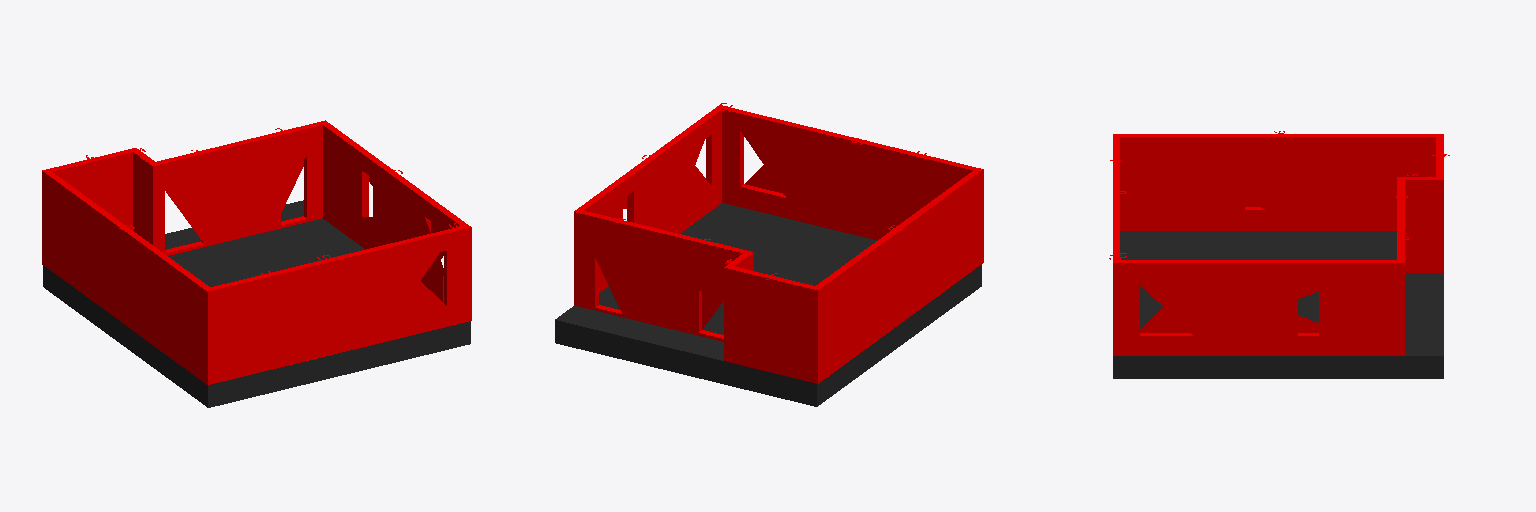
Rendered from 1_objects_outline_with_openings.obj.
The picture shows the model from 3 angles: view 1: azimuth 30°, elevation 25°; view 2: azimuth 150°, elevation 25°; view 3: azimuth 270°, elevation 25°; orthographic projection.
Parts seen in each view (by area): view 1: Outline_Walls, Foundation; view 2: Outline_Walls, Foundation; view 3: Outline_Walls, Foundation.
Part boxes in pixels (left/top/right/bottom): Outline_Walls: left=42, top=120, right=471, bottom=384; Foundation: left=43, top=200, right=470, bottom=407; Outline_Walls: left=574, top=106, right=983, bottom=383; Foundation: left=555, top=203, right=981, bottom=406; Outline_Walls: left=1113, top=134, right=1443, bottom=355; Foundation: left=1113, top=231, right=1443, bottom=378.
Bounding box in the file's own units: 9.08 × 3.8 × 9.92.